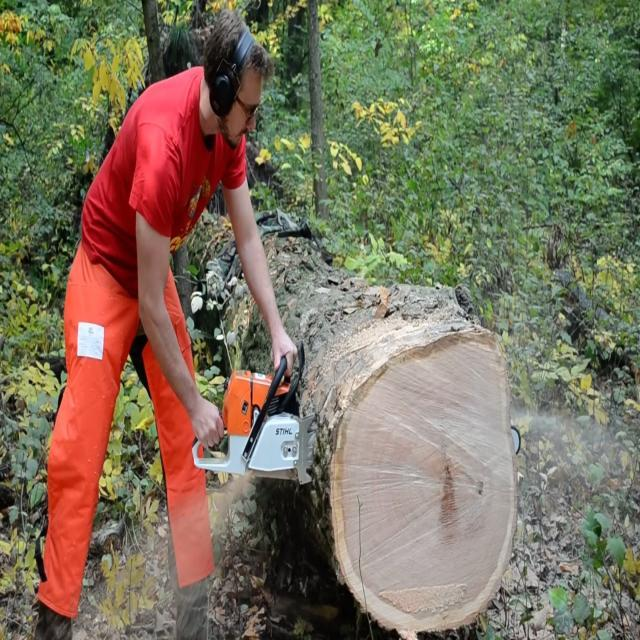Chainsaw: (190, 362, 527, 516)
